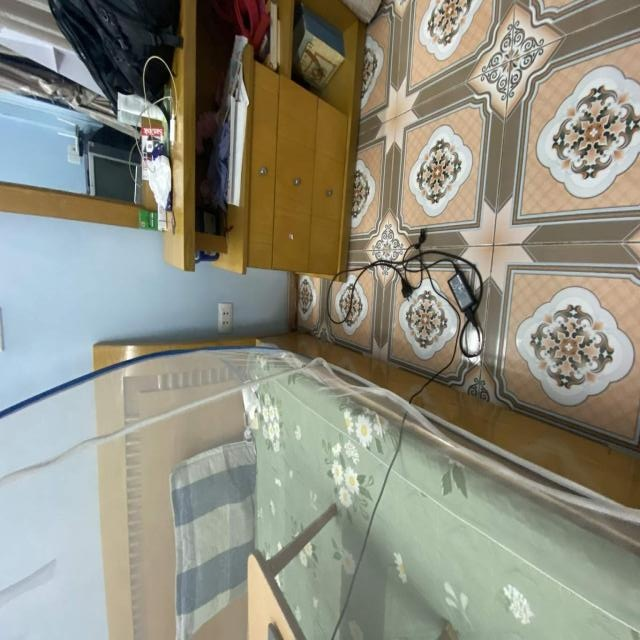outlet: (218, 303, 233, 333)
